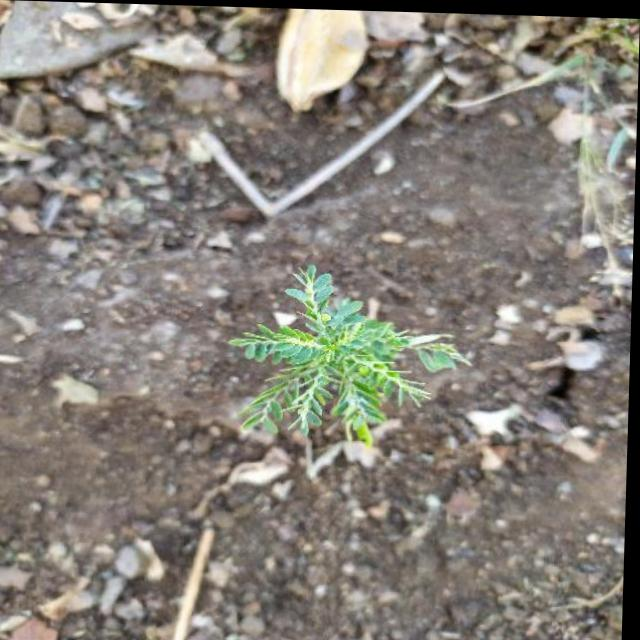weed: (234, 258, 475, 475)
